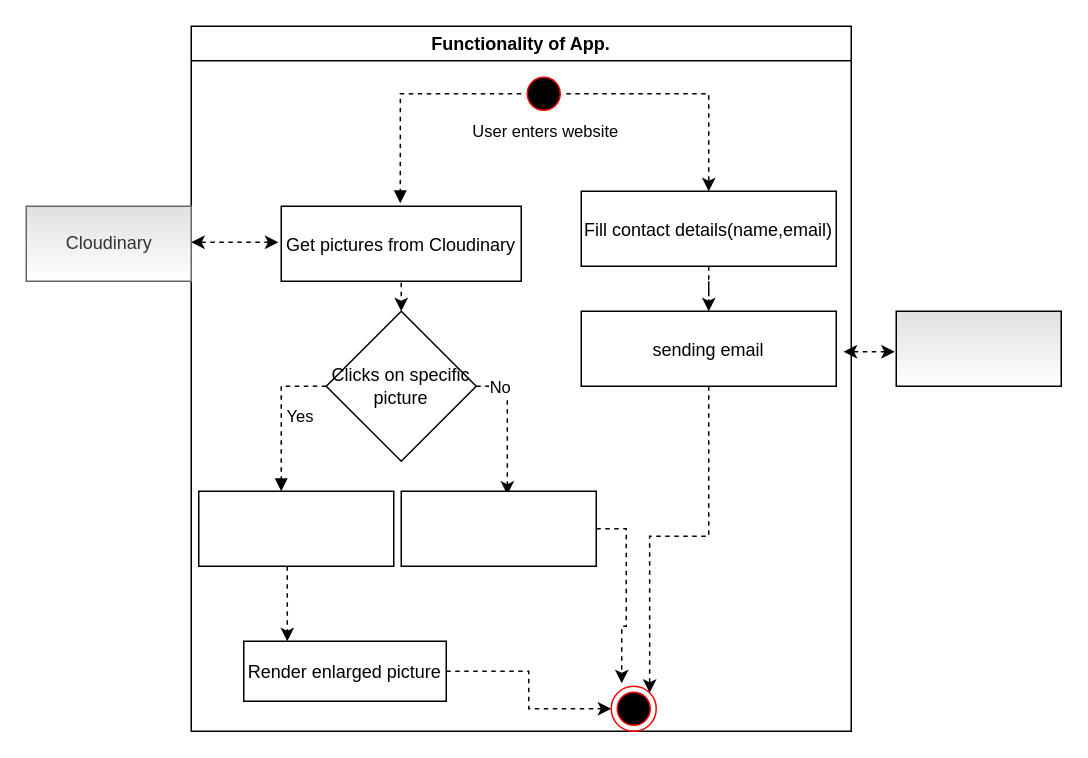
Image size: 1088x758. Some labels were removed from this diagram. The box of each missing label's shape, as (x1, y1, x2, y2) in pixels:
Enlargement of picture: (197, 490, 394, 566)
Render listed pictures: (400, 490, 596, 566)
SendGrid: (895, 310, 1061, 386)
